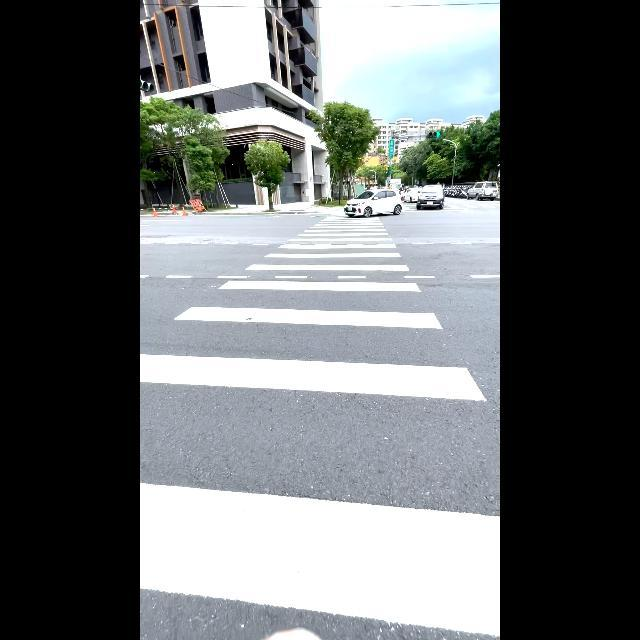sidewalk: (140, 205, 499, 640)
